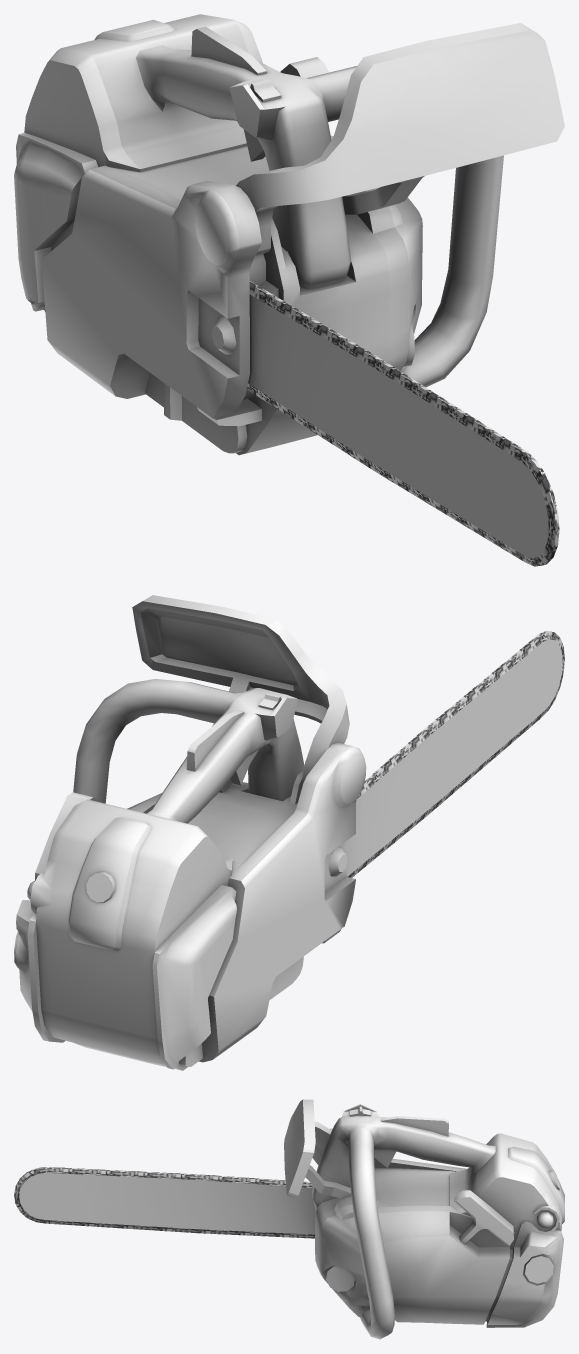
The picture shows the model from 3 angles, top to bottom: view 1: azimuth 30°, elevation 25°; view 2: azimuth 150°, elevation 25°; view 3: azimuth 270°, elevation 25°; orthographic projection. The views are drawn at different scales.
Visible parts, largest first — view 1: Chainsaw01; view 2: Chainsaw01; view 3: Chainsaw01.
Part boxes in pixels (box(x1,y1,x2,y2)): Chainsaw01: box(14, 14, 564, 566); Chainsaw01: box(14, 595, 564, 1070); Chainsaw01: box(14, 1099, 564, 1339).
Size of the model in its own units: 3.3 by 3.99 by 9.43.
